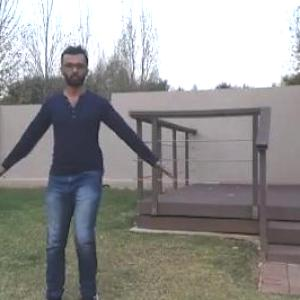land: (0, 44, 176, 299)
